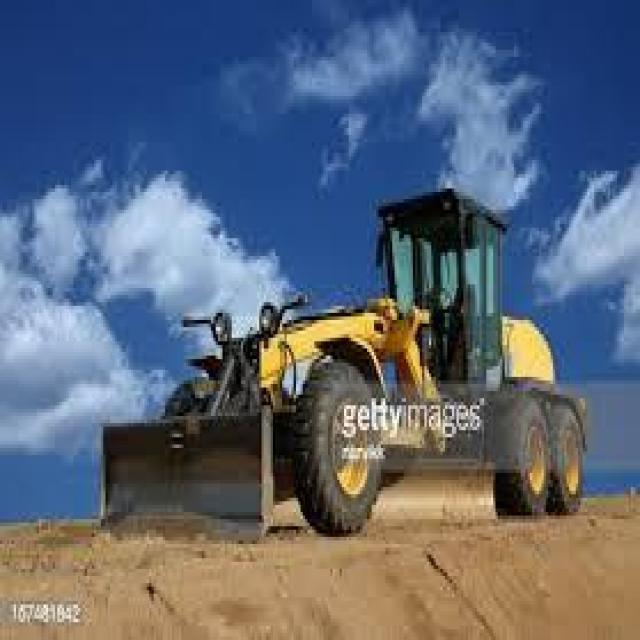Grader: (88, 178, 580, 569)
